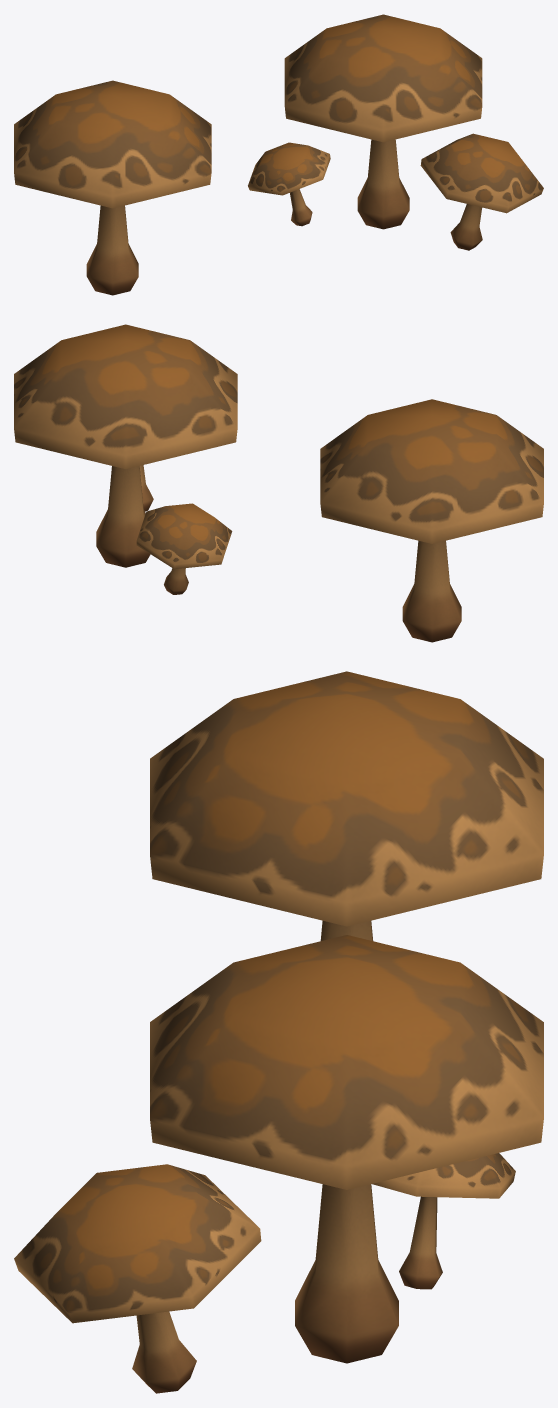
File: Mushroom1.glb
3 renders of one model, top to bottom at view 1: azimuth 30°, elevation 25°; view 2: azimuth 150°, elevation 25°; view 3: azimuth 270°, elevation 25°, orthographic. The views are drawn at different scales.
Parts seen in each view (by area): view 1: Mushroom 1_group, Mushroom 1_single; view 2: Mushroom 1_group, Mushroom 1_single; view 3: Mushroom 1_group, Mushroom 1_single.
Part boxes in pixels (x1,y1,x2,y2): Mushroom 1_group: (248,14,543,250); Mushroom 1_single: (14,80,211,295); Mushroom 1_group: (14,324,237,594); Mushroom 1_single: (320,399,543,642); Mushroom 1_group: (14,935,543,1393); Mushroom 1_single: (150,671,543,940).
Bounding box in the file's own units: 24.71 × 9.76 × 12.14.
Materials: 1 (1 with a texture image).
